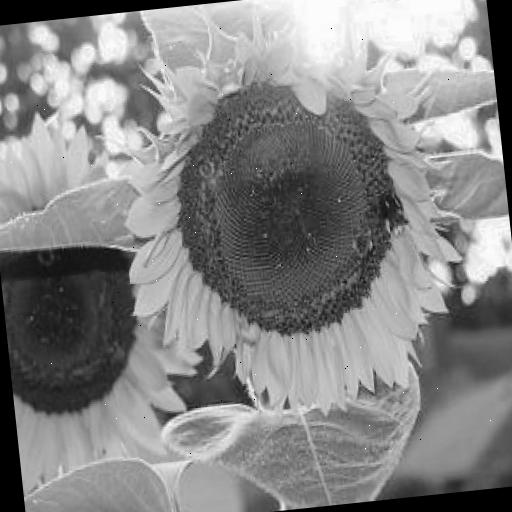sunflower: (111, 22, 474, 420)
